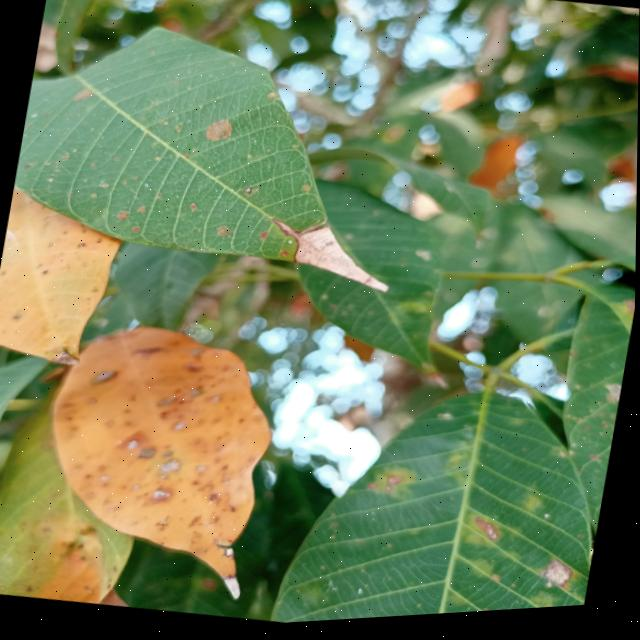Colletotrichum: (244, 190, 255, 199), (23, 163, 32, 171)
Leaf-Blight: (264, 210, 400, 303), (545, 564, 576, 591), (222, 575, 245, 603)
